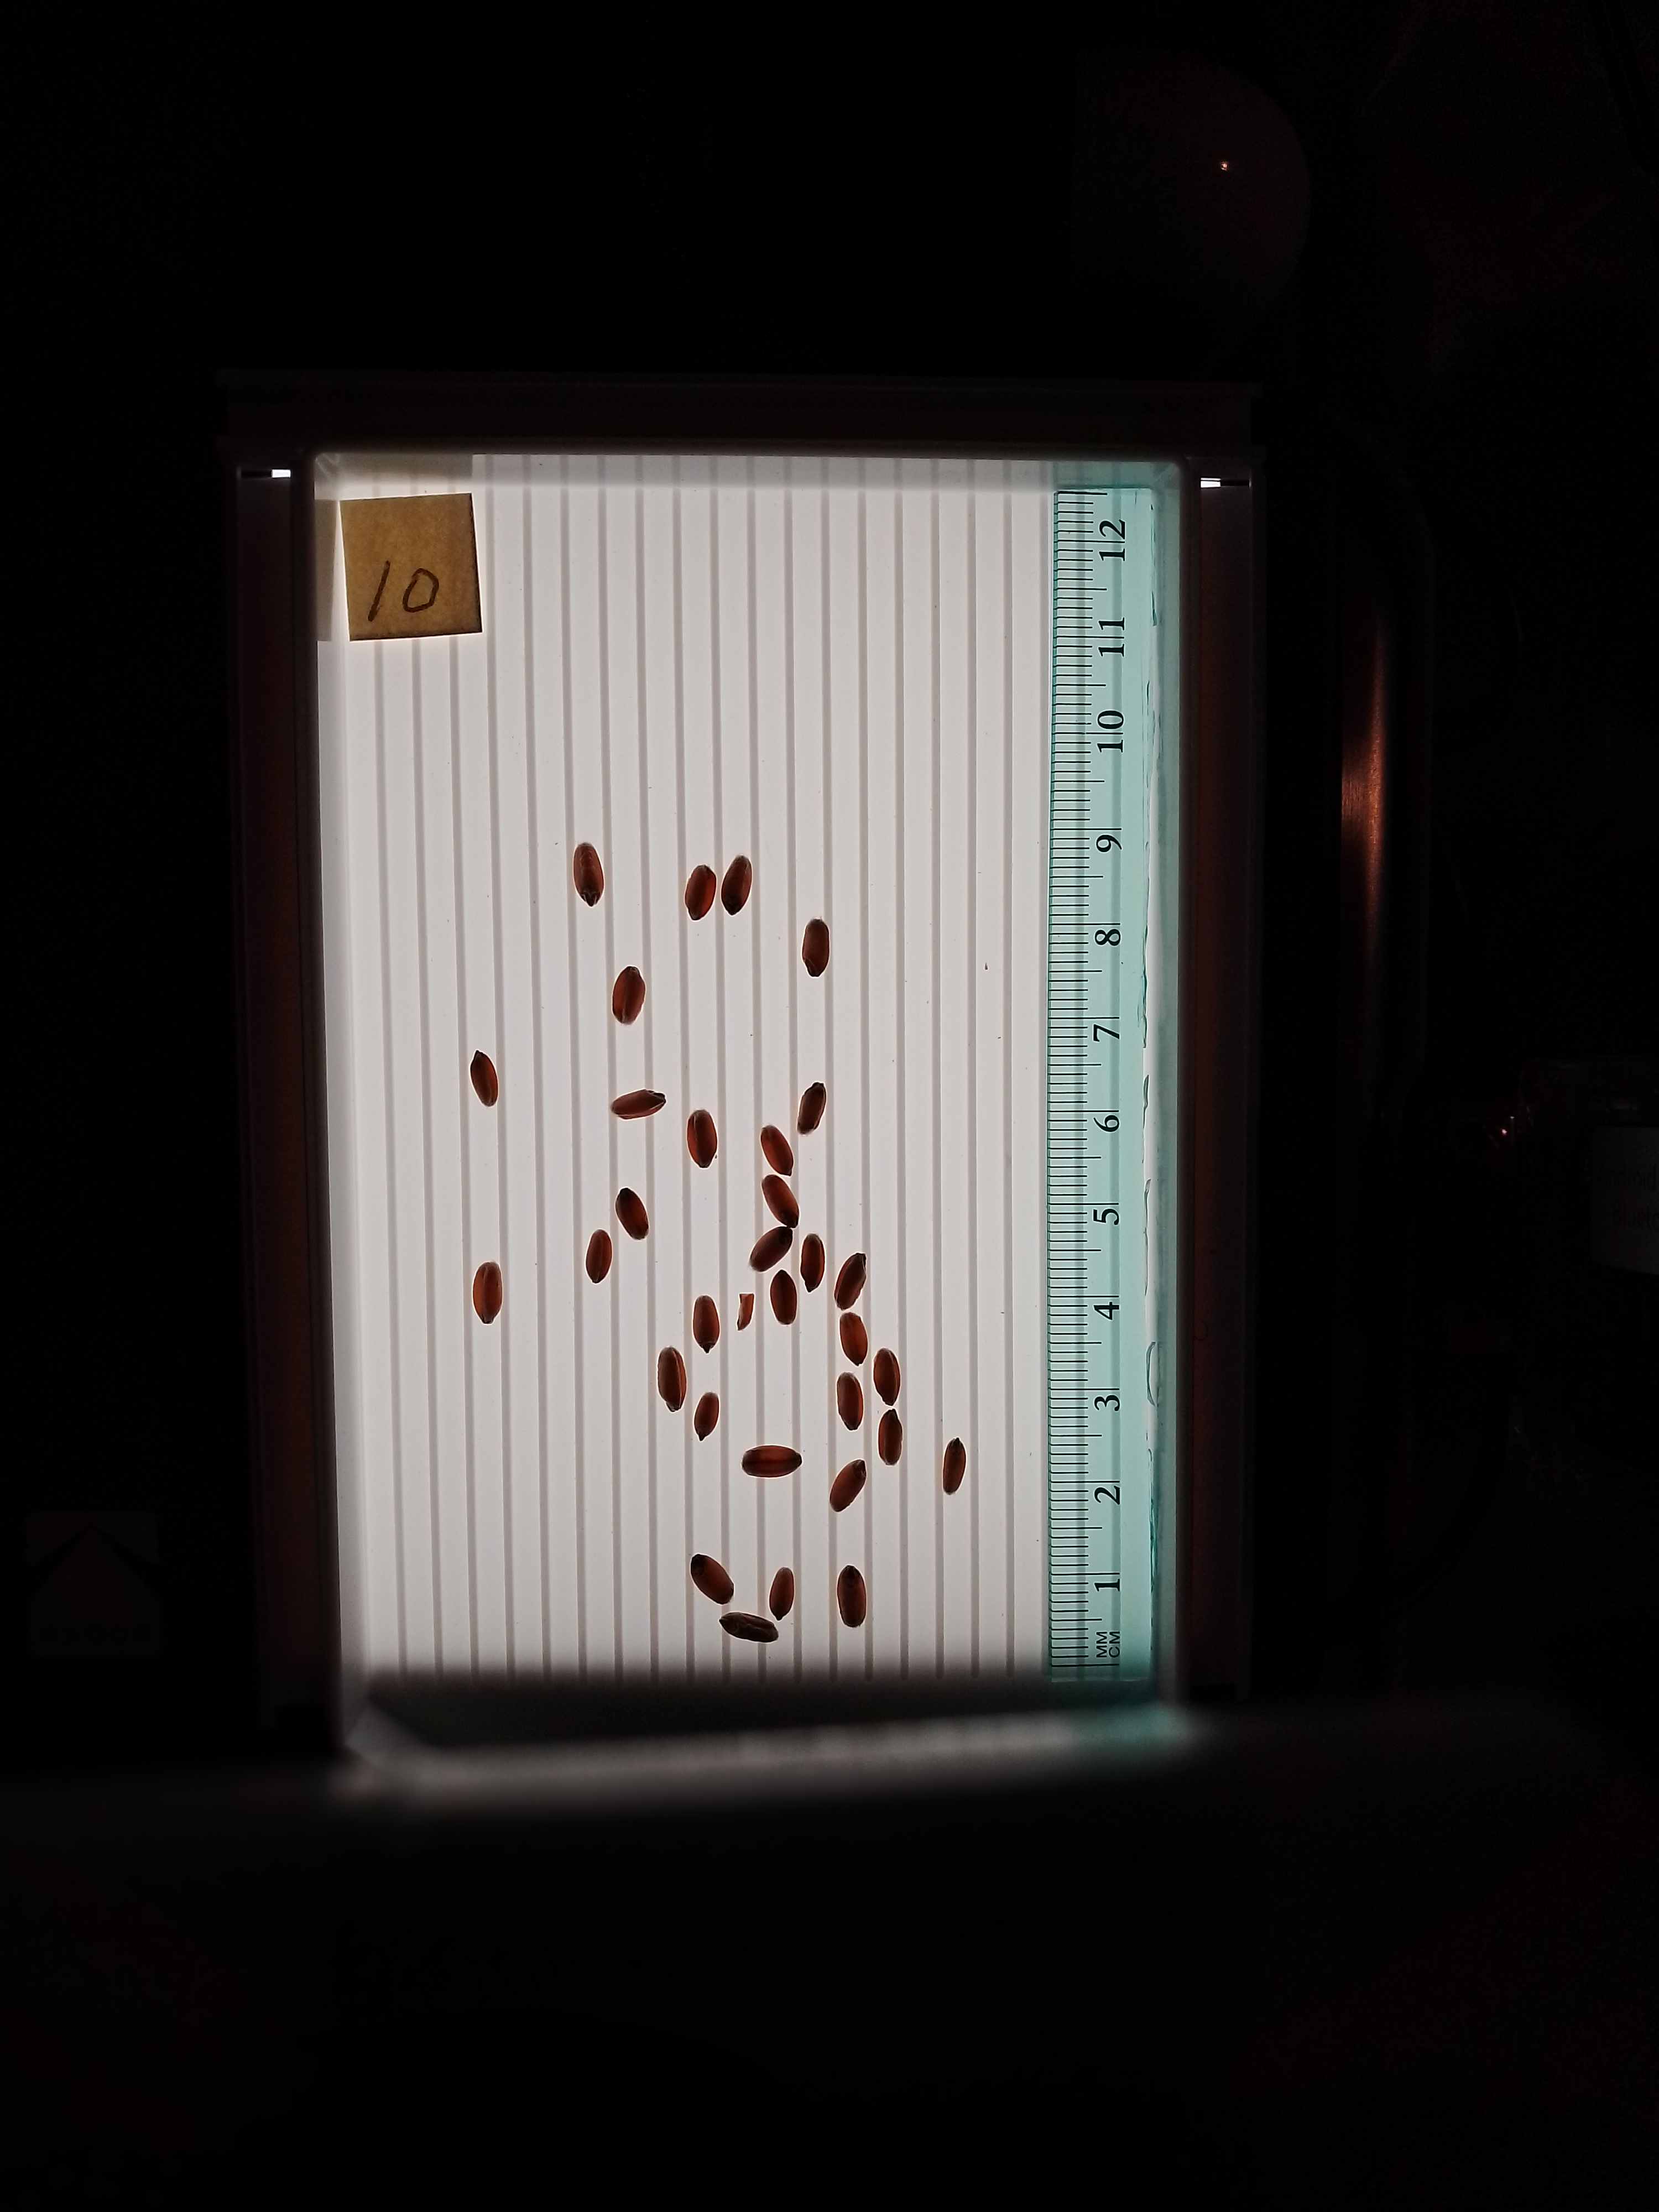seed mask: (690, 1554, 735, 1606), (741, 1444, 803, 1479), (828, 1458, 868, 1512), (762, 1174, 800, 1228), (472, 1261, 504, 1325), (718, 1611, 779, 1644), (749, 1226, 793, 1271), (572, 845, 605, 904), (657, 1346, 687, 1413), (612, 968, 647, 1024), (836, 1562, 866, 1627), (835, 1252, 868, 1310), (613, 1188, 650, 1238), (687, 1111, 718, 1169), (721, 857, 751, 914), (685, 866, 716, 920), (769, 1270, 798, 1325), (836, 1372, 864, 1432), (873, 1348, 901, 1407), (613, 1089, 664, 1120), (469, 1054, 498, 1106), (694, 1294, 720, 1353), (838, 1313, 868, 1366), (584, 1230, 612, 1284), (798, 1083, 826, 1136), (803, 920, 830, 975), (769, 1566, 795, 1622), (762, 1127, 791, 1176), (943, 1437, 967, 1496), (878, 1407, 903, 1467), (802, 1233, 824, 1292), (692, 1392, 718, 1442), (735, 1294, 755, 1331)
